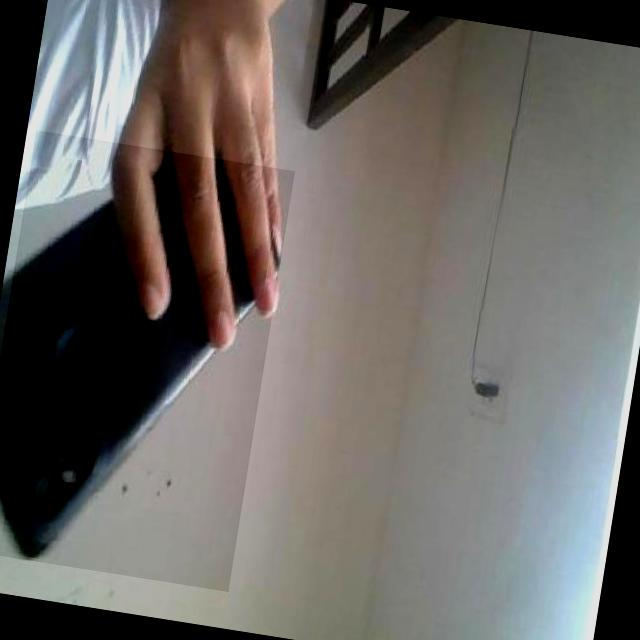lens_back: (37, 478, 67, 512)
phone: (0, 128, 294, 590)
